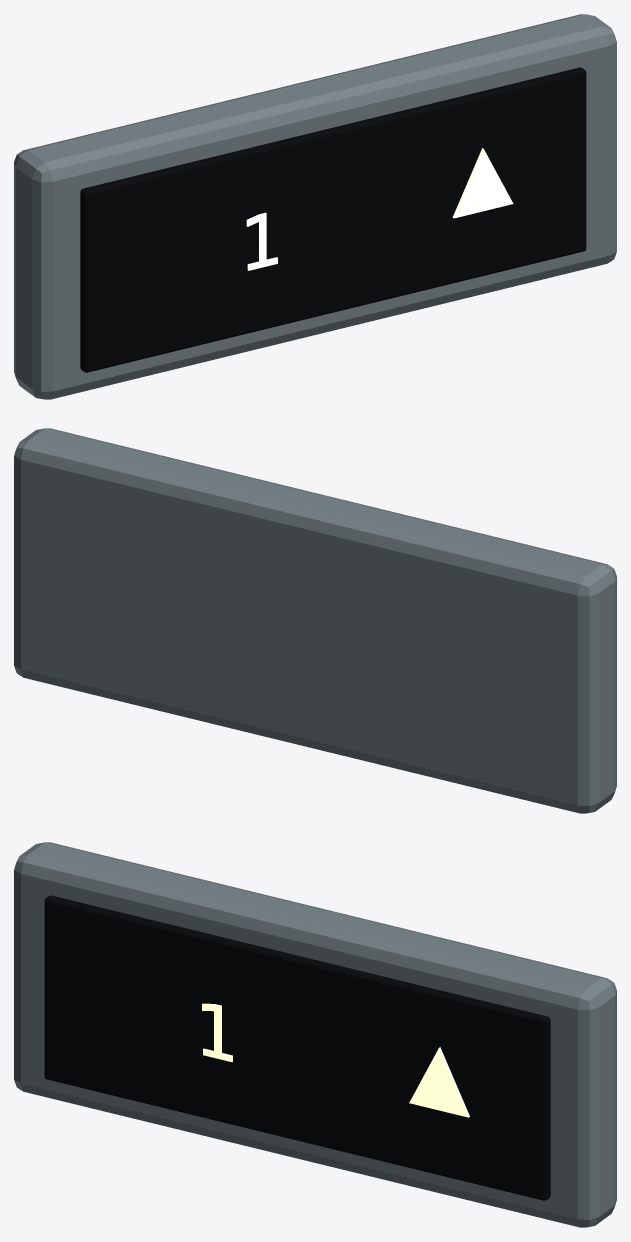
The model's file is OAA_Lift_FloorIndicator.fbx.
3 renders of one model, top to bottom at view 1: azimuth 30°, elevation 25°; view 2: azimuth 150°, elevation 25°; view 3: azimuth 330°, elevation 25°, orthographic.
Visible parts, largest first — view 1: Body; view 2: Body; view 3: Body.
Part boxes in pixels (box(x1,y1,x2,y2)): Body: box(14, 14, 616, 399); Body: box(14, 428, 616, 813); Body: box(14, 842, 616, 1227).
Bounding box in the file's own units: 0.36 × 0.14 × 0.0415.
